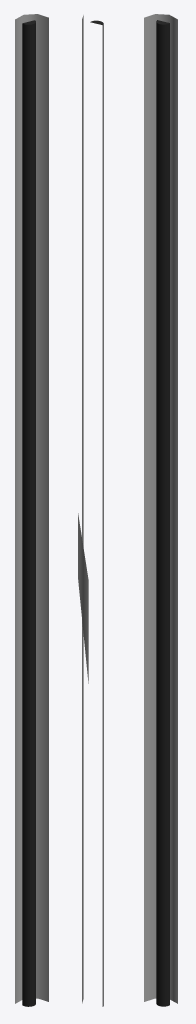
The model's file is well_rig_pipe.glb.
3 renders of one model, left to right at view 1: azimuth 30°, elevation 25°; view 2: azimuth 150°, elevation 25°; view 3: azimuth 330°, elevation 25°, orthographic.
Visible parts, largest first — view 1: SM_MERGED_StaticMeshActor_204; view 2: SM_MERGED_StaticMeshActor_204; view 3: SM_MERGED_StaticMeshActor_204.
Boxes of the visible parts, <box> form: SM_MERGED_StaticMeshActor_204: <box>15,14,48,1006</box>; SM_MERGED_StaticMeshActor_204: <box>78,15,103,1006</box>; SM_MERGED_StaticMeshActor_204: <box>144,14,177,1006</box>.
Bounding box in the file's own units: 0.8196 × 23.98 × 0.4962.
1 material, 1 textured.
